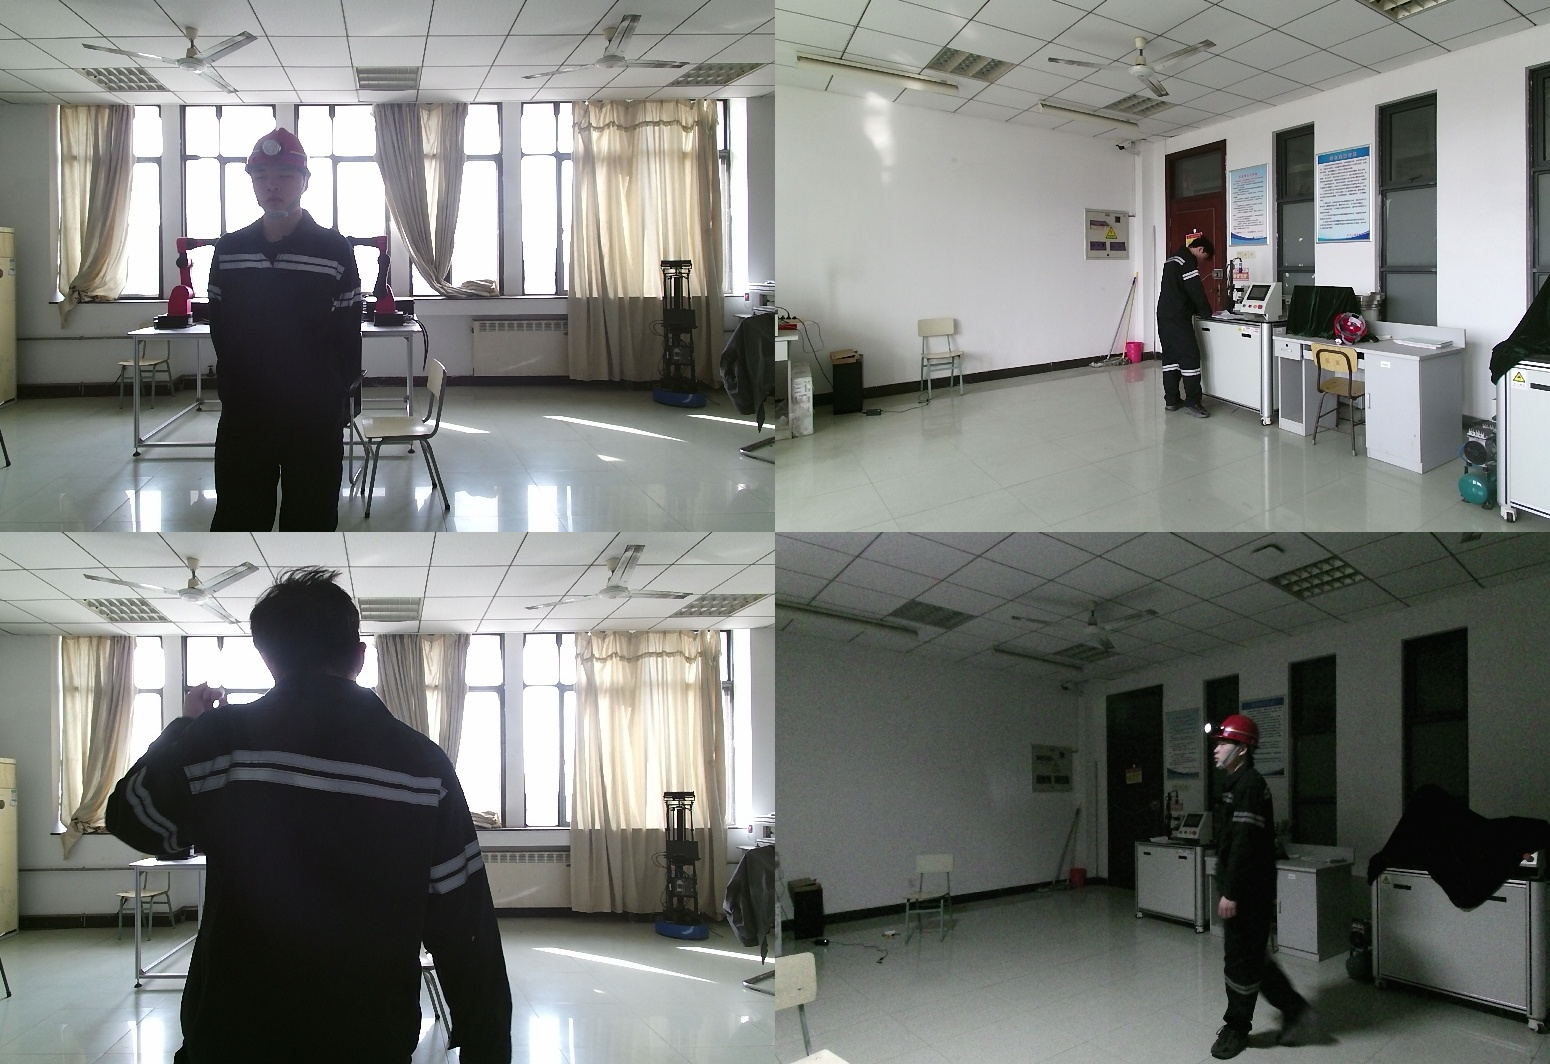person: (112, 573, 511, 1064), (206, 128, 359, 532), (1165, 712, 1288, 1064), (1159, 239, 1218, 420)
